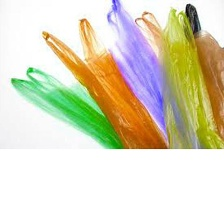plastic_bag: (34, 13, 169, 150), (97, 0, 187, 148), (2, 61, 125, 151), (135, 6, 208, 152), (160, 2, 222, 151)
